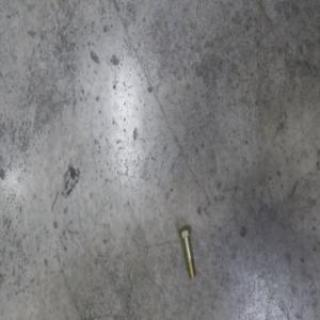Bolttrack_idkeyframe: (176, 223, 194, 280)
